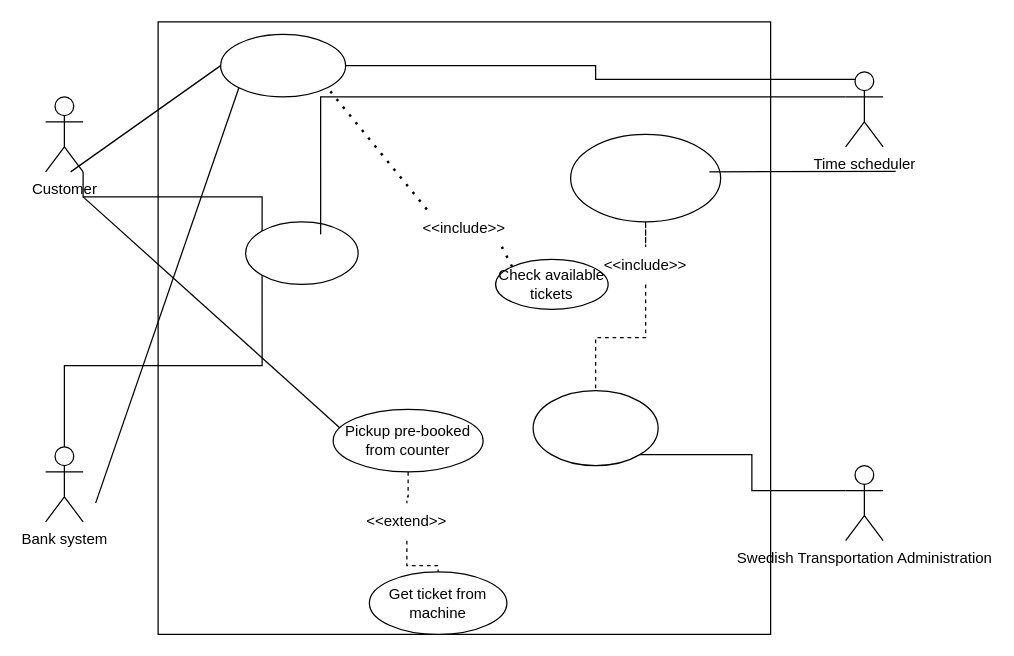
The diagram is 1014 pixels wide and 656 high, and some of its shapes have lost their labels. The shapes that lost their labels are listed below. From the top down, each one's centre as x and y in pixels, then its label:
the point at 282,65: Buy ticket online
the point at 645,177: Plans and schedules trip for certain time
the point at 301,252: Rebook ticket
the point at 595,427: Check available tracks
